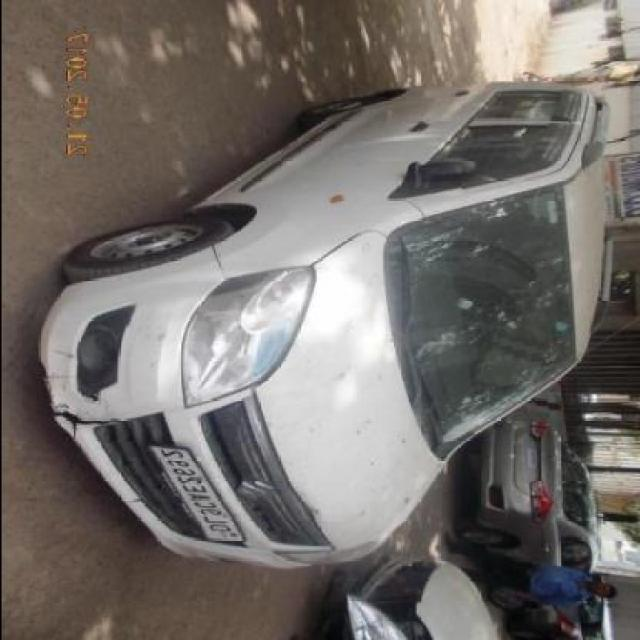damage: (51, 402, 125, 439), (123, 312, 166, 341), (41, 370, 74, 383), (80, 391, 103, 404), (47, 347, 73, 358), (305, 502, 319, 518), (124, 497, 142, 503)
